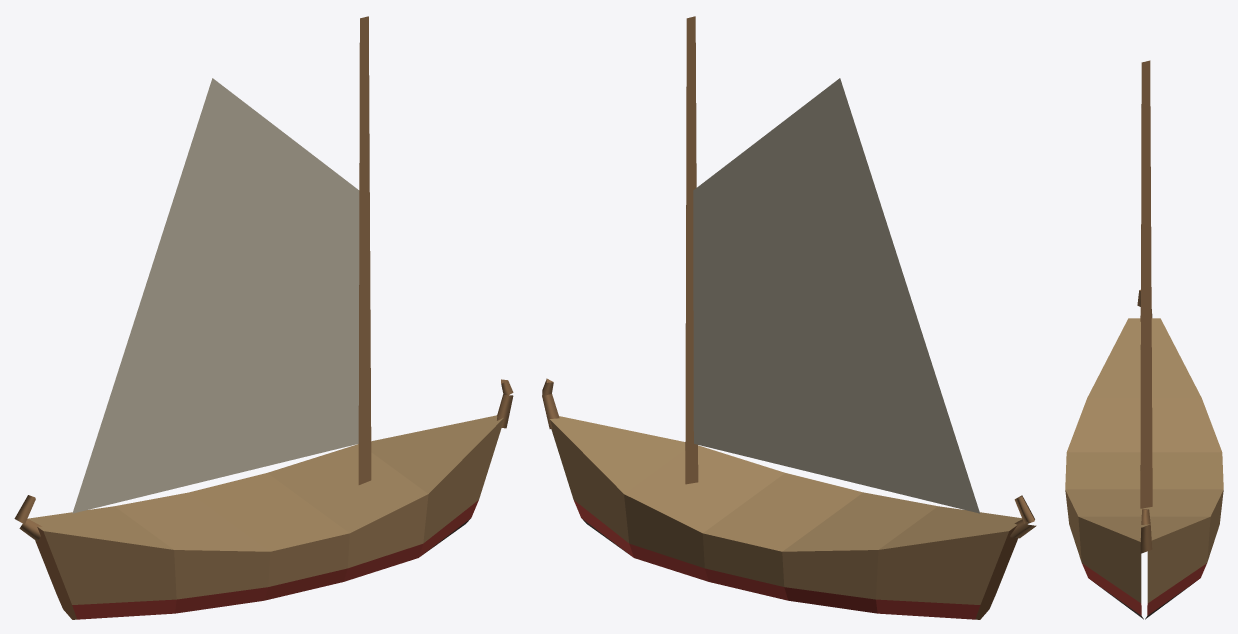
The model's file is hull_other_sprit_small_lod.glb.
The picture shows the model from 3 angles, left to right: view 1: azimuth 30°, elevation 25°; view 2: azimuth 150°, elevation 25°; view 3: azimuth 270°, elevation 25°; orthographic projection. The views are drawn at different scales.
Visible parts, largest first — view 1: lod; view 2: lod; view 3: lod.
Part boxes in pixels (x1=…): lod: x1=14, y1=16, x2=513, y2=619; lod: x1=542, y1=16, x2=1036, y2=619; lod: x1=1065, y1=60, x2=1223, y2=619.
Bounding box in the file's own units: 10.58 × 11.19 × 3.05.
